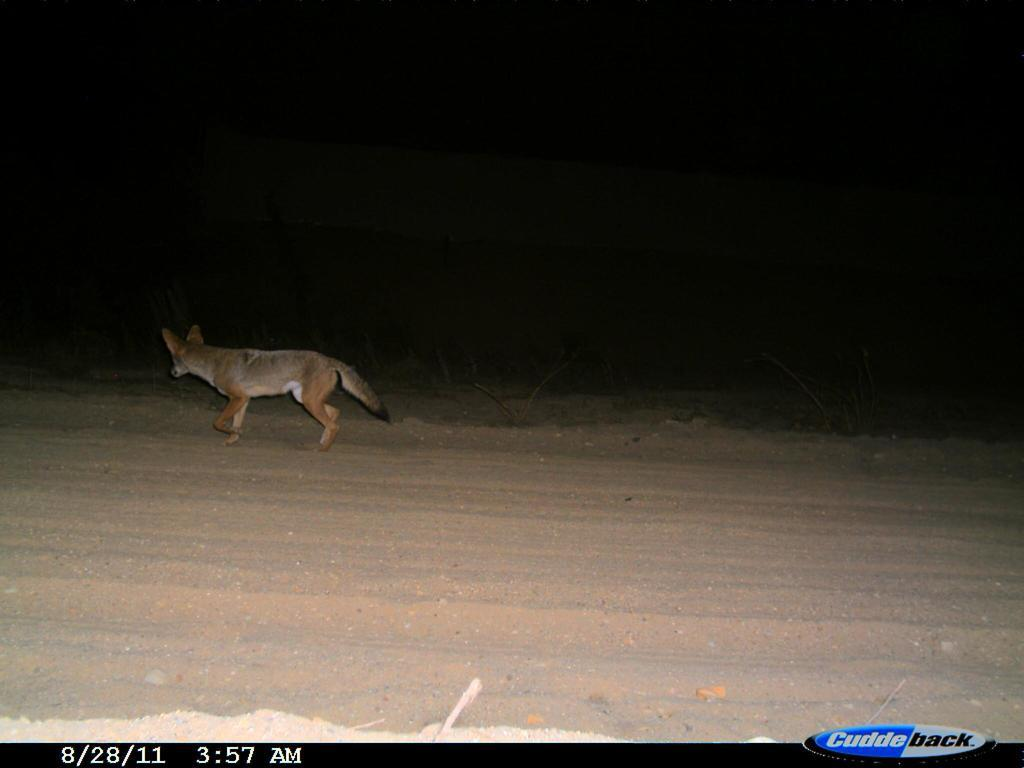coyote: (158, 312, 400, 459)
